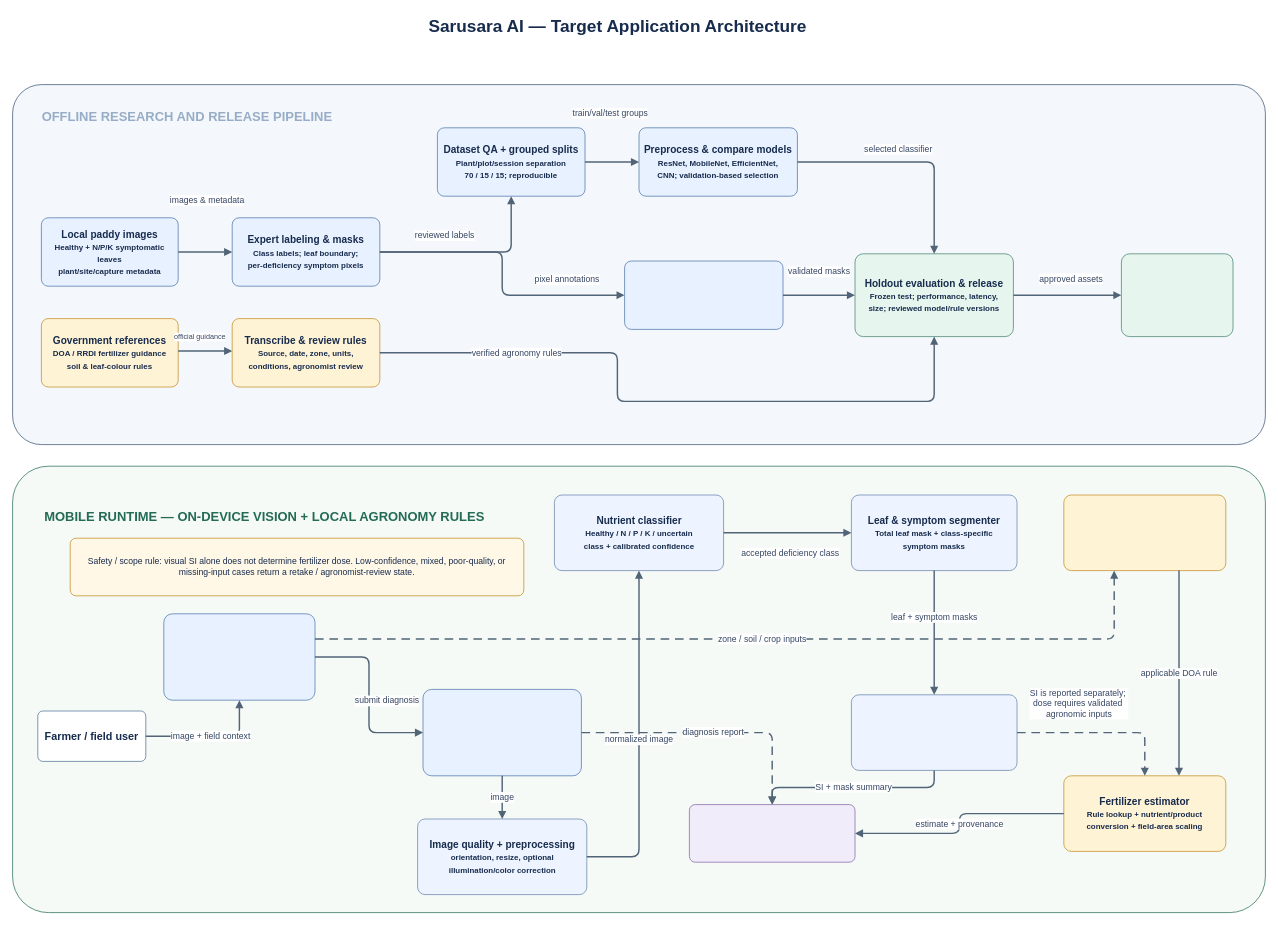
This 1278x925 diagram has some shape labels left out. The shapes that lost their labels are listed below. From the top down, each one's centre as x and y in pixels, then its label:
At pixel 703 294: "Train segmentation models Leaf mask + symptom masks Dice / IoU / SI error".
At pixel 1177 295: "Versioned app assets Classifier + segmenter DOA-derived local rule set".
At pixel 1144 532: "Local agronomy rules DOA source/version, zone, water regime, soil/LCI, stage".
At pixel 239 656: "Flutter mobile app Capture / diagnosis / results field & crop inputs".
At pixel 501 732: "Diagnosis controller Input validation, orchestration, state, fallback handling".
At pixel 934 732: "Severity calculator SI = symptom pixels within leaf / valid leaf pixels x 100".
At pixel 772 833: "Local report store Image reference, prediction, SI, estimate, source & status".
